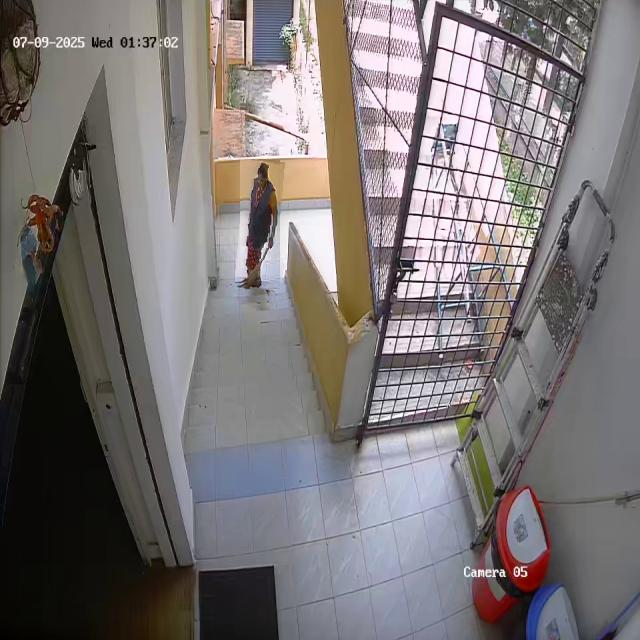person: (237, 160, 283, 289)
